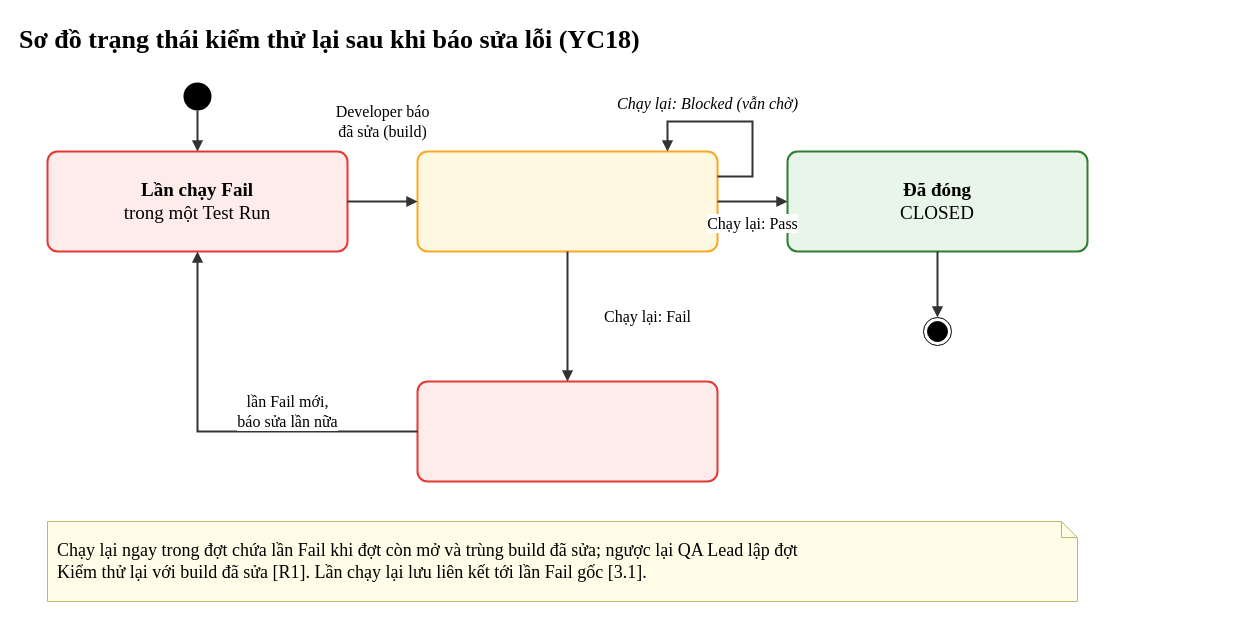
Some shapes in this 1234 by 619 pixel diagram are drawn without their labels. Each missing label, with the centre of its shape:
"Chờ kiểm thử lại WAITING" goes at (x=567, y=201).
"Mở lại REOPENED" goes at (x=567, y=431).
